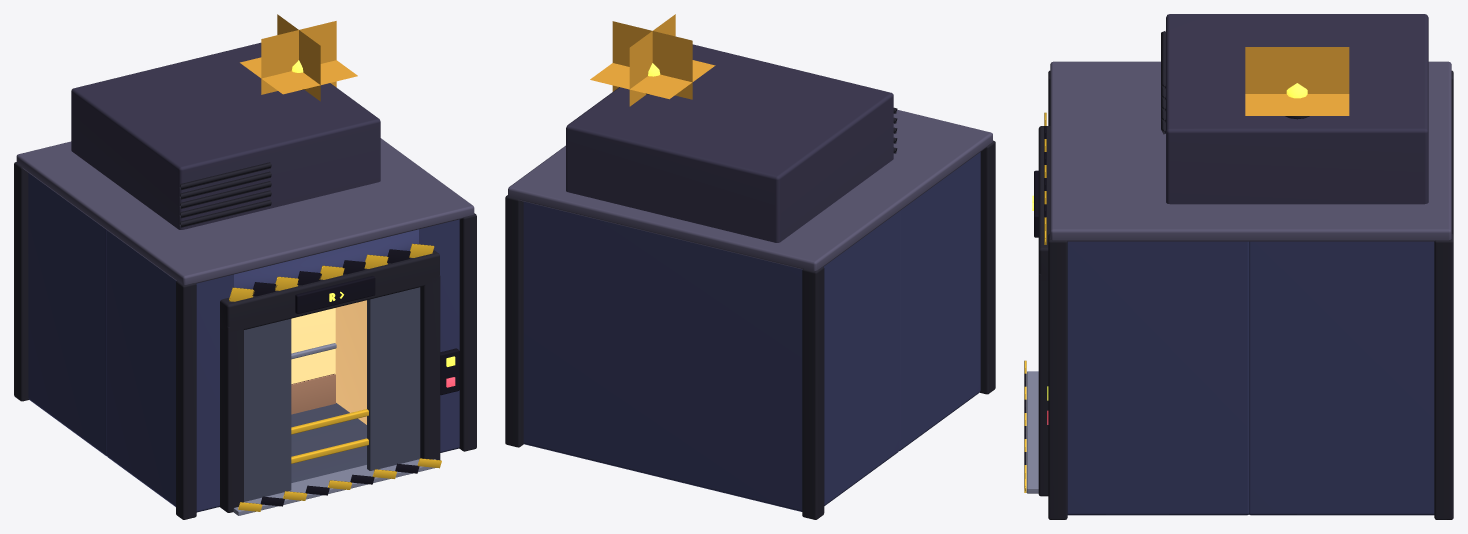
File: neon_freight_elevator.glb
3 views of the same model, side by side, from view 1: azimuth 30°, elevation 25°; view 2: azimuth 150°, elevation 25°; view 3: azimuth 270°, elevation 25° (orthographic). The views are drawn at different scales.
Parts seen in each view (by area): view 1: FreightElevator; view 2: FreightElevator; view 3: FreightElevator.
Part boxes in pixels (x1,y1,x2,y2): FreightElevator: [14, 14, 476, 519]; FreightElevator: [505, 14, 995, 519]; FreightElevator: [1024, 14, 1453, 519].
Size of the model in its own units: 5.25 by 6.15 by 5.56.
